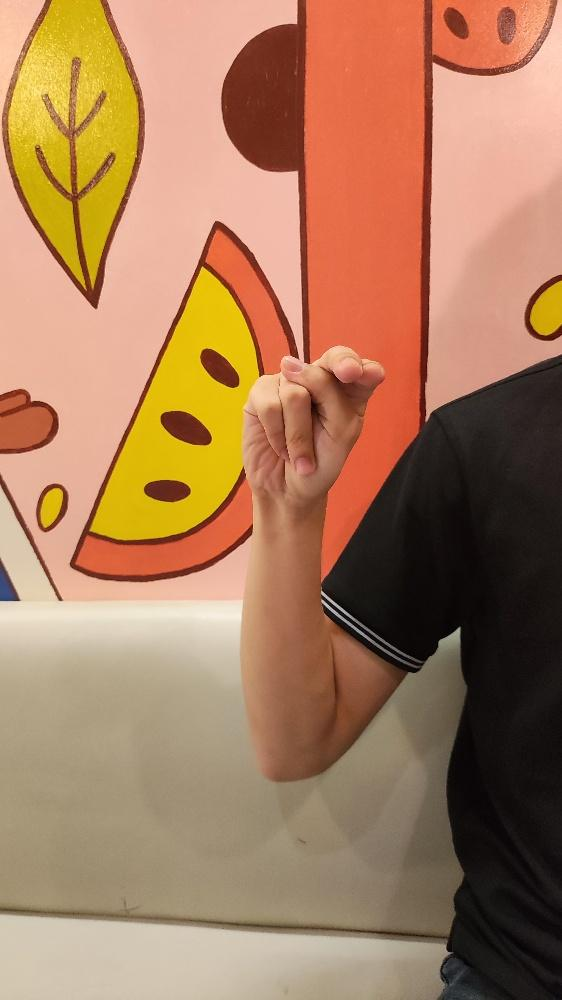n: (237, 340, 385, 507)
